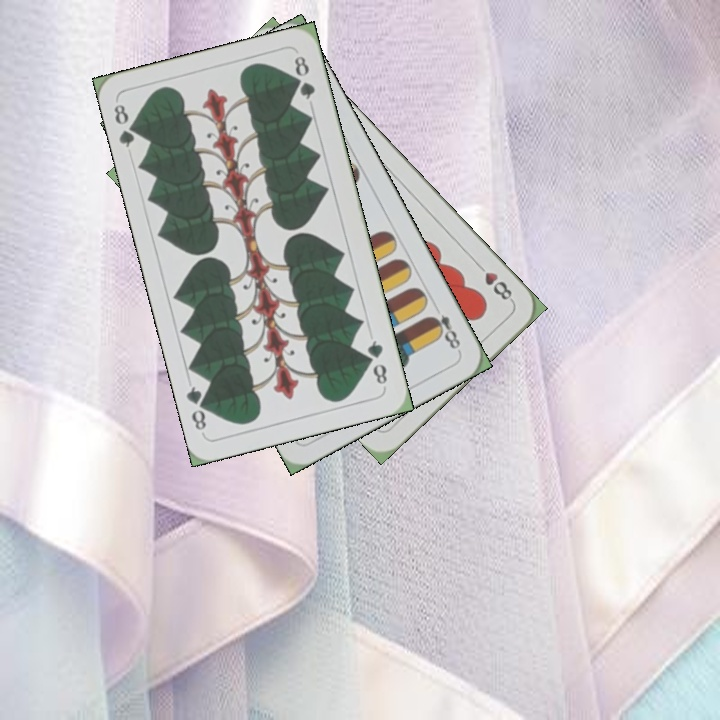E8: (425, 299, 463, 354)
G8: (109, 100, 142, 150), (363, 336, 390, 390)
H8: (471, 258, 516, 305)
